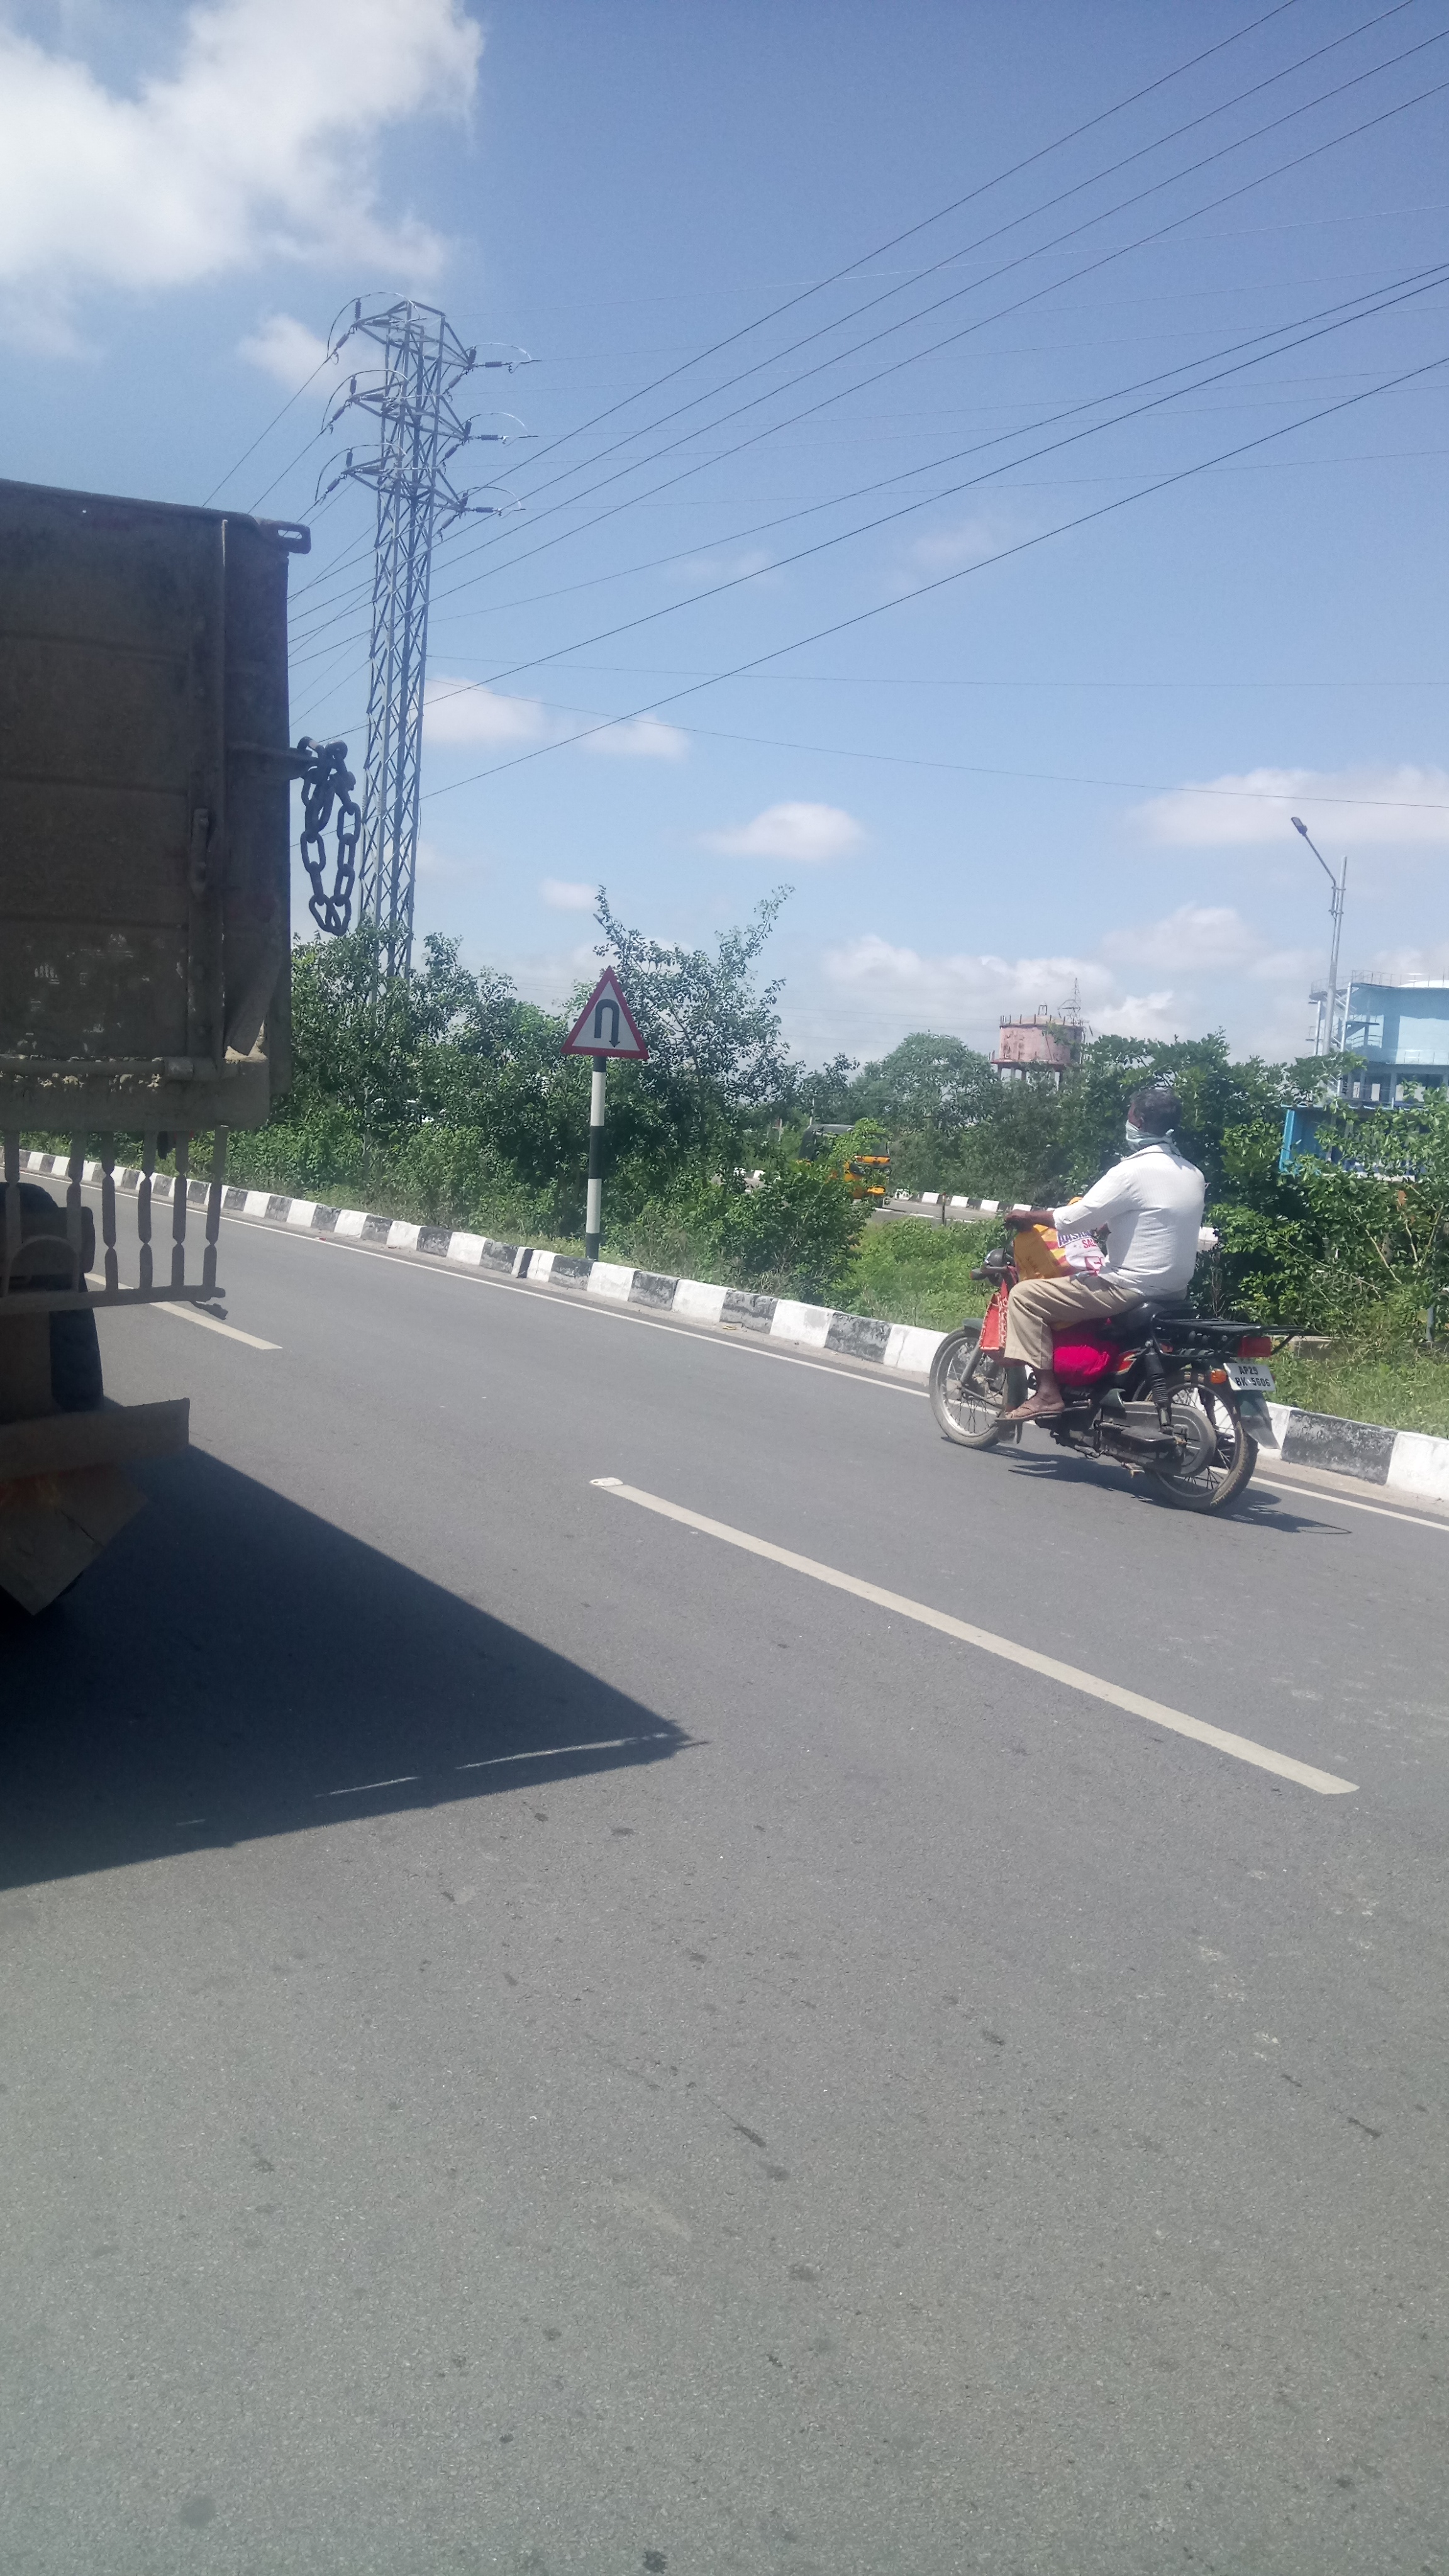traffic_sign: (559, 966, 649, 1056)
